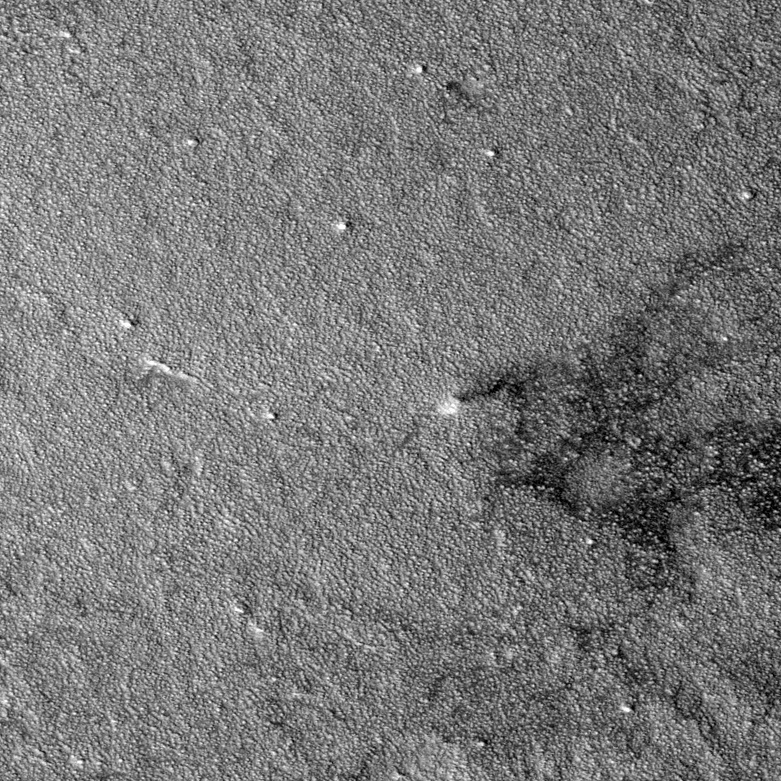dust_devil: (436, 375, 508, 418)
